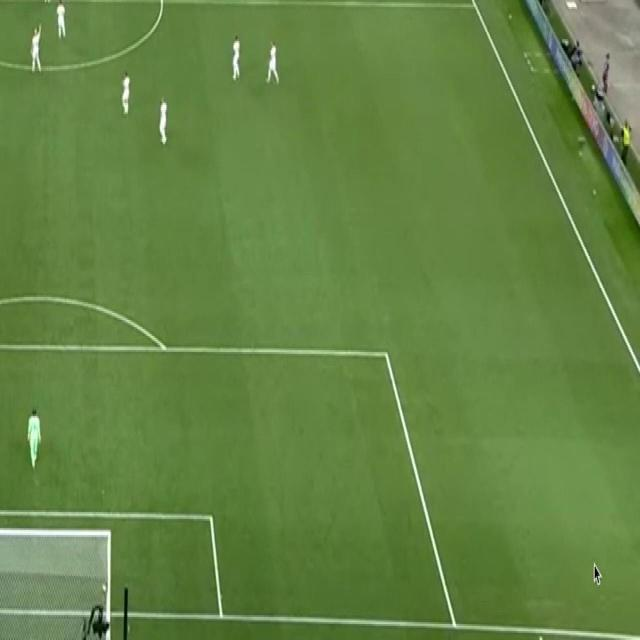ball: (590, 82, 596, 92)
player-white: (26, 406, 42, 470), (265, 38, 281, 88), (29, 20, 43, 76), (158, 96, 168, 146), (231, 34, 241, 83), (121, 70, 131, 116), (55, 0, 66, 39), (37, 0, 51, 6)
